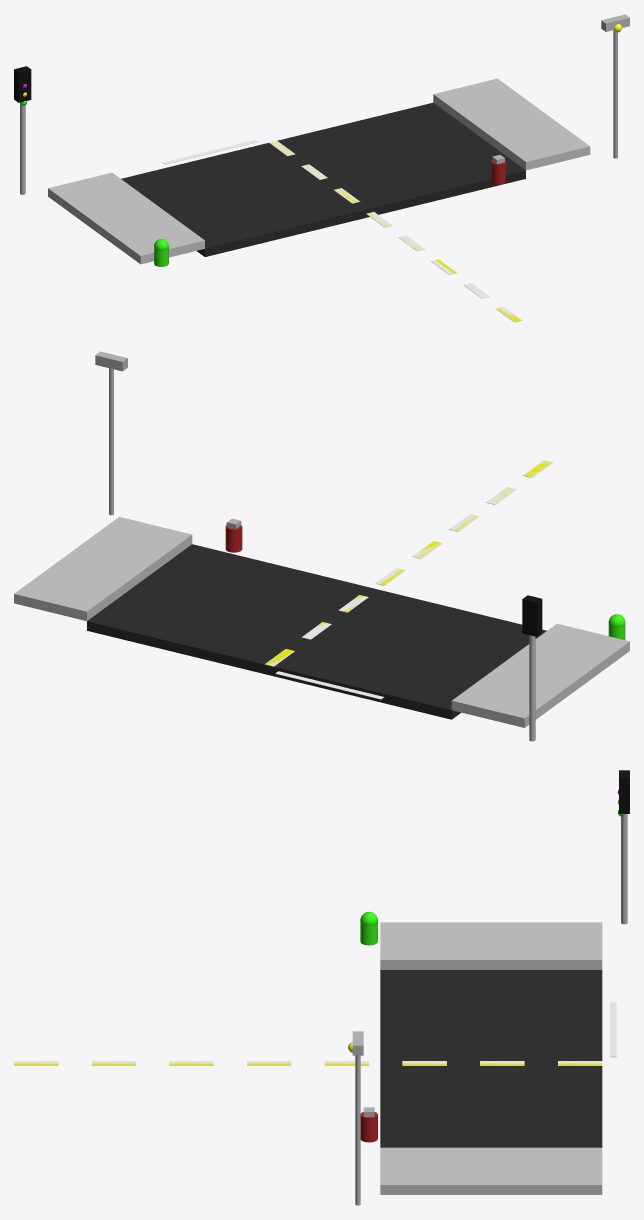
File: environment.glb
3 renders of one model, top to bottom at view 1: azimuth 30°, elevation 25°; view 2: azimuth 150°, elevation 25°; view 3: azimuth 270°, elevation 25°, orthographic. The views are drawn at different scales.
Bounding box in the file's own units: 31.15 × 8.75 × 27.75.
